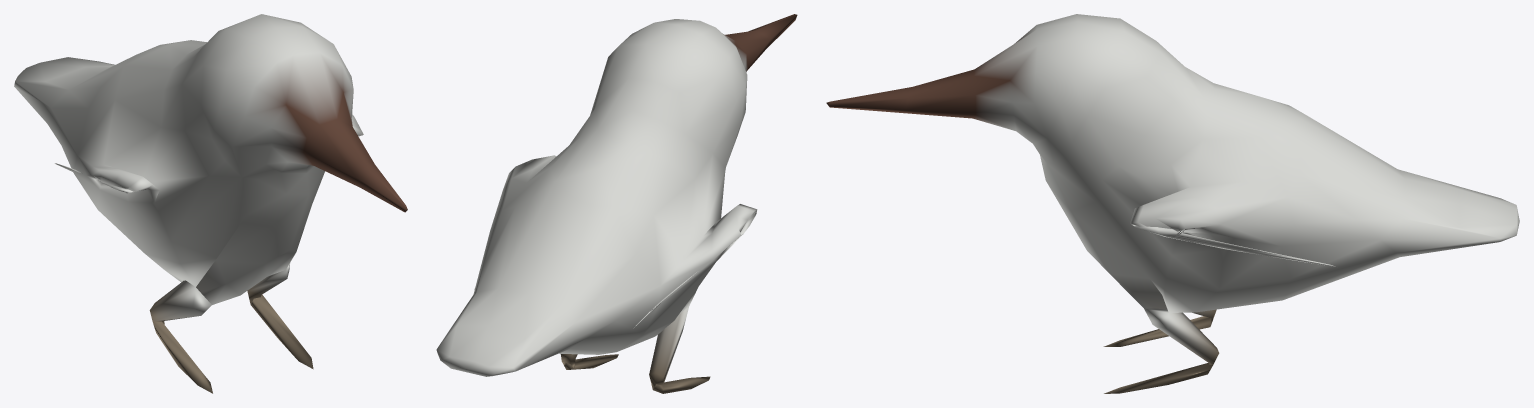
Rendered from kingfisher-0.glb.
The picture shows the model from 3 angles, left to right: view 1: azimuth 30°, elevation 25°; view 2: azimuth 150°, elevation 25°; view 3: azimuth 270°, elevation 25°; orthographic projection. The views are drawn at different scales.
Parts seen in each view (by area): view 1: kingfisher; view 2: kingfisher; view 3: kingfisher.
Part boxes in pixels (x1,y1,x2,y2): kingfisher: [14, 14, 407, 393]; kingfisher: [436, 14, 797, 393]; kingfisher: [826, 14, 1519, 393].
Size of the model in its own units: 0.1132 by 0.154 by 0.2775.
